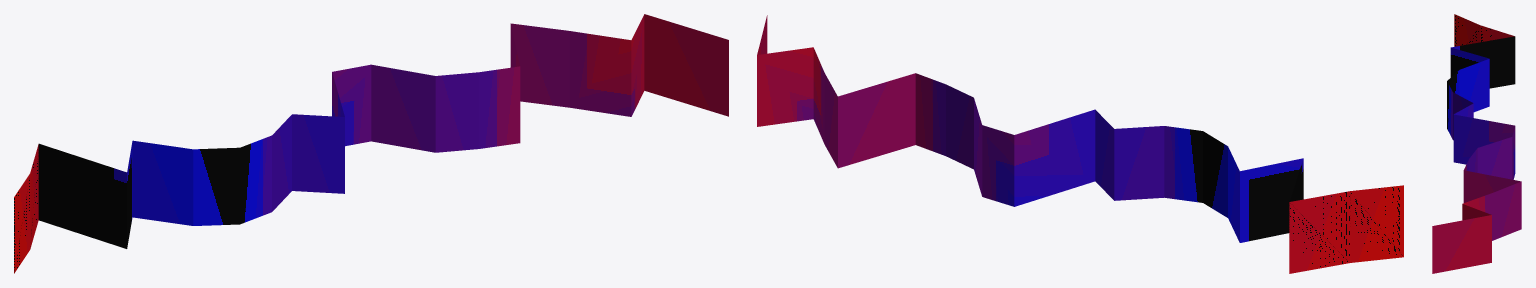
Rendered from colored.obj.
3 renders of one model, left to right at view 1: azimuth 30°, elevation 25°; view 2: azimuth 150°, elevation 25°; view 3: azimuth 270°, elevation 25°, orthographic. The views are drawn at different scales.
Bounding box in the file's own units: 190 × 20 × 33.75.
Materials: 1 (1 with a texture image).
